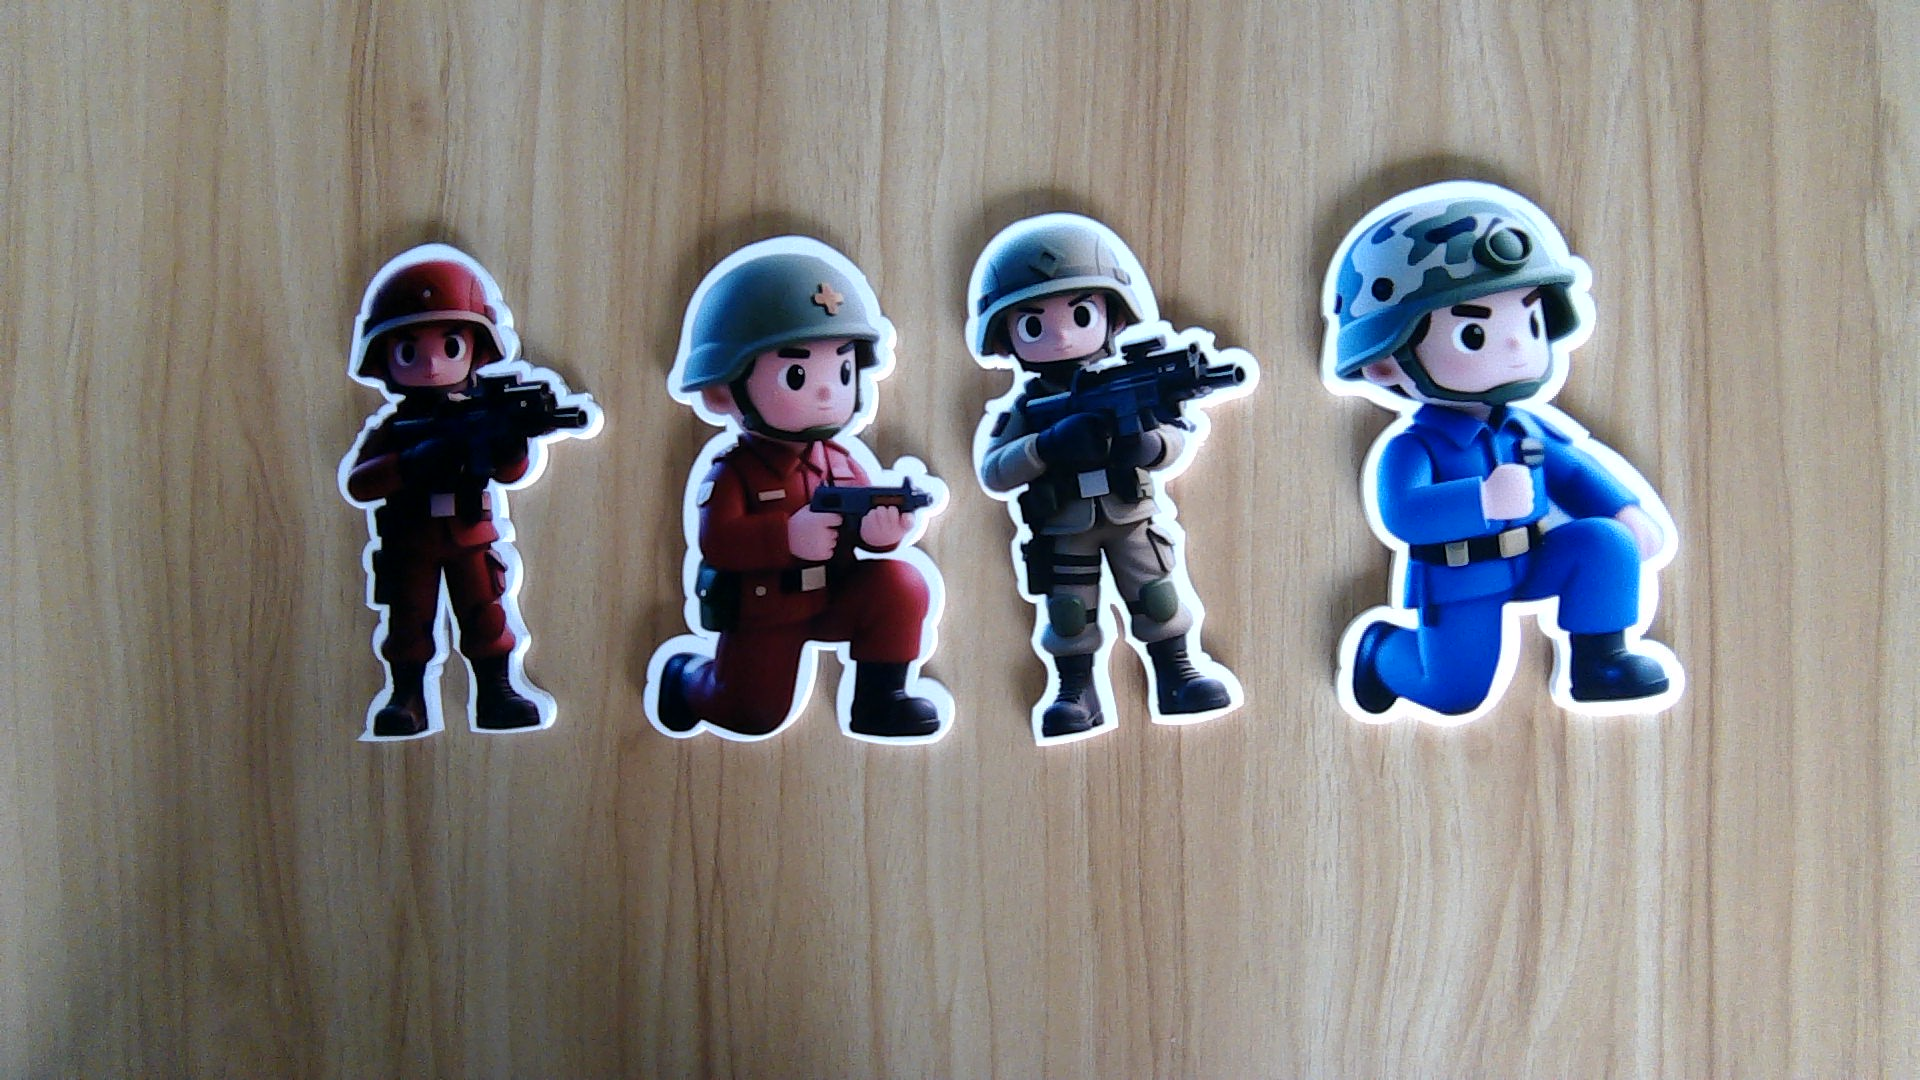友军: (638, 429, 956, 753)
敌人1: (1316, 407, 1709, 744), (963, 363, 1265, 746)
敌人2: (328, 393, 608, 746)
